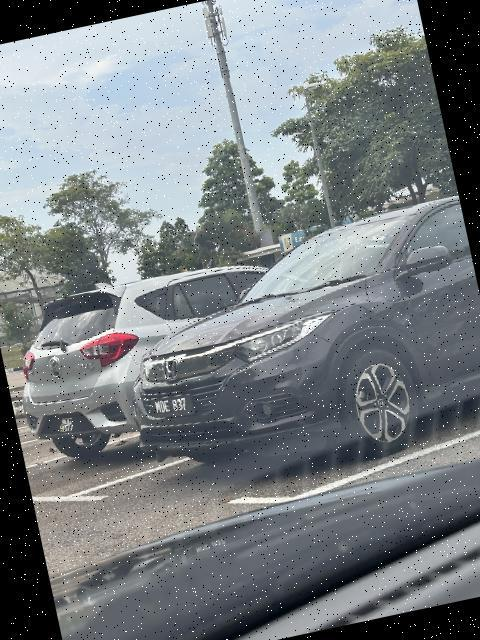License_Plate: (149, 387, 199, 425), (46, 410, 88, 440)
MDE837: (149, 387, 199, 425)
car: (104, 188, 480, 497), (1, 245, 310, 472)
